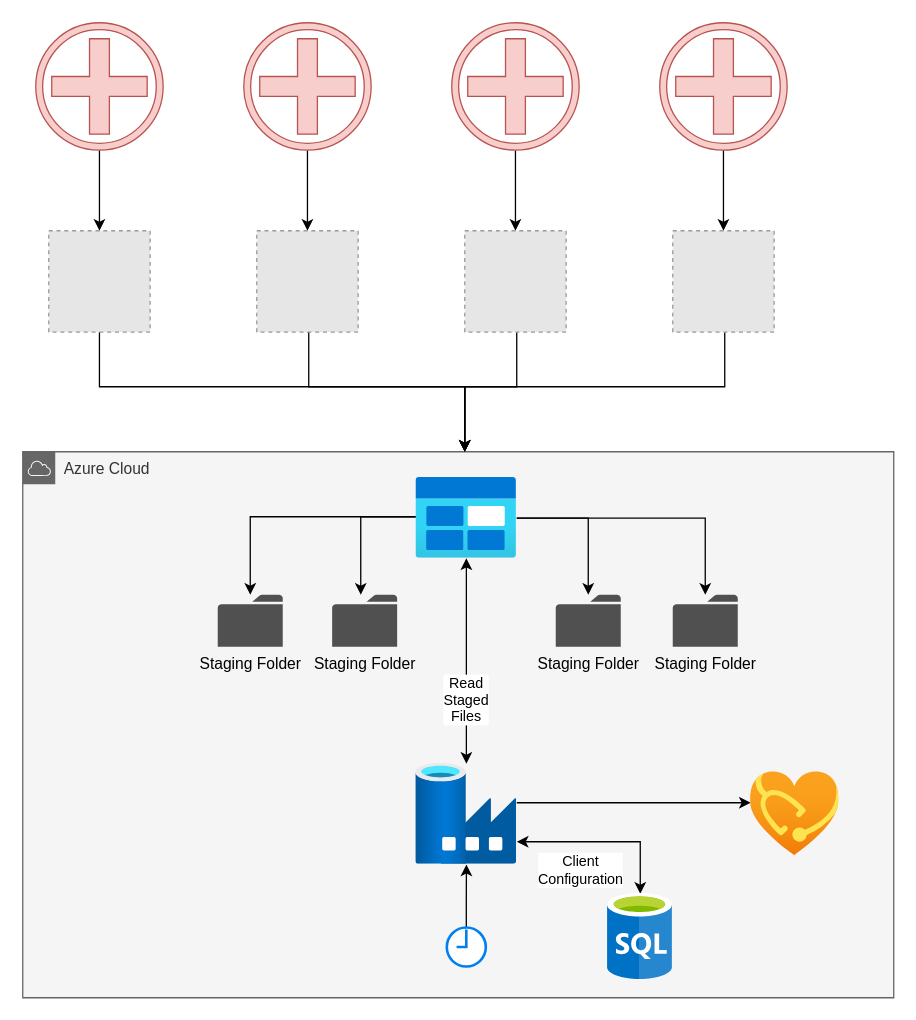
This 916x1020 diagram has some shape labels left out. Grey dashed boxes stand in for pictures. The shapes that lost their labels are listed below. From the top down, each one's box as (x1, y1, x2, y2) in pixels, then its label:
(415, 477, 516, 558): Blob Container
(445, 926, 486, 967): Schedule
